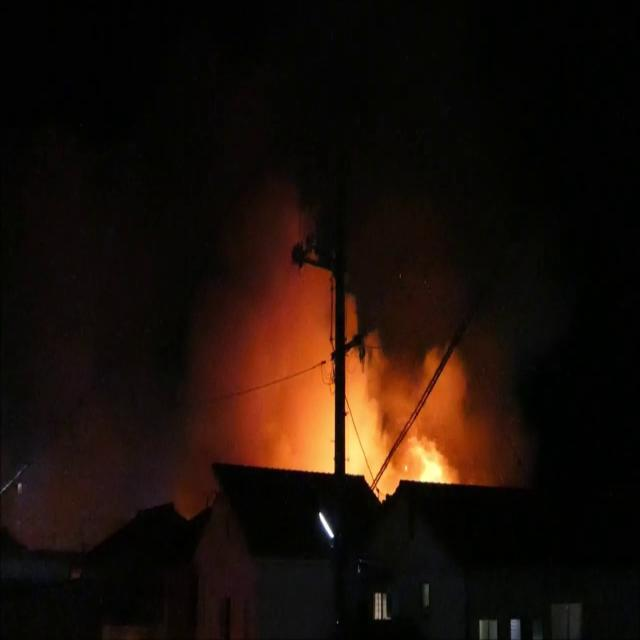Smoke: (173, 134, 524, 474)
